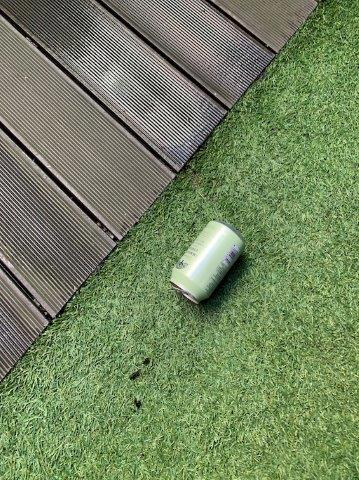kaleng: (169, 219, 244, 305)
